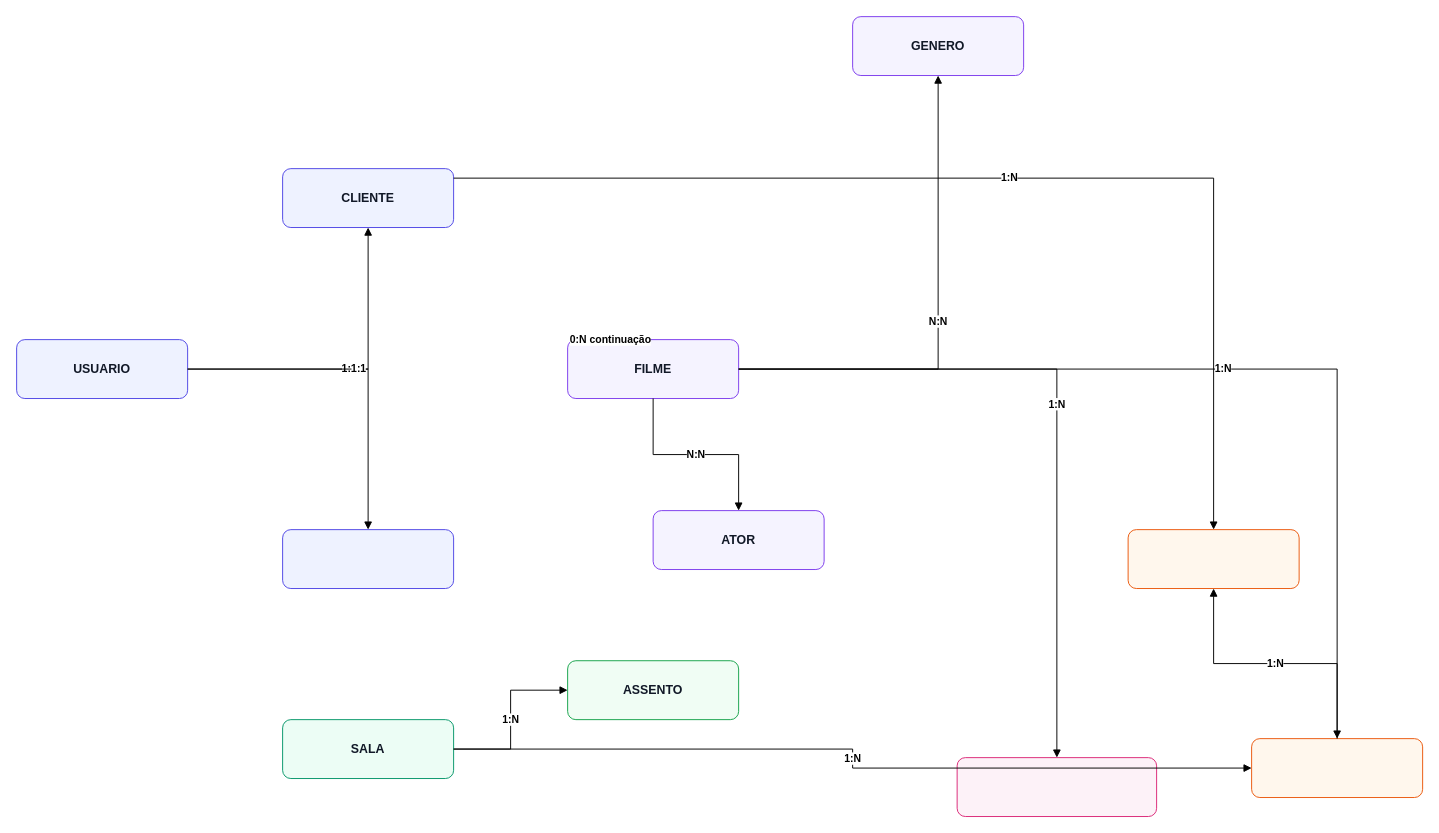
Some shapes in this 1439 by 833 pixel diagram are drawn without their labels. Each missing label, with the box of its shape:
ADMINISTRADOR: (282, 529, 454, 589)
HISTORICO_SITUACAO_FILME: (956, 757, 1157, 817)
RESERVA: (1127, 529, 1299, 589)
SESSAO: (1251, 738, 1423, 798)
